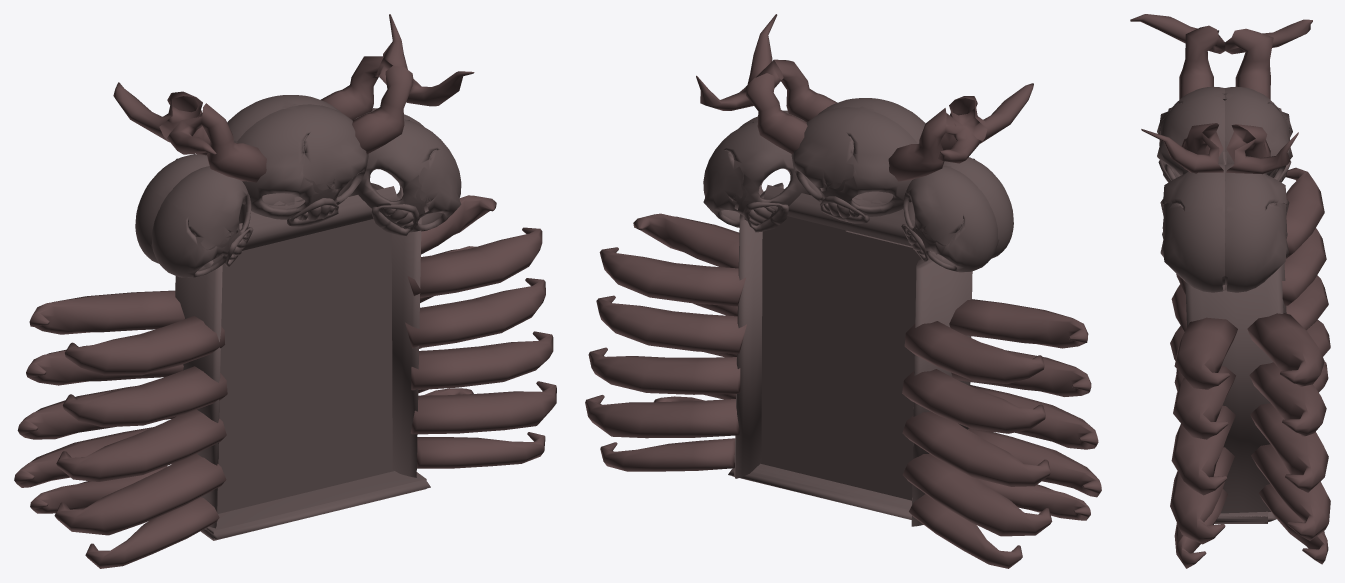
The model's file is BossDoor.fbx.
3 renders of one model, left to right at view 1: azimuth 30°, elevation 25°; view 2: azimuth 150°, elevation 25°; view 3: azimuth 270°, elevation 25°, orthographic. The views are drawn at different scales.
Visible parts, largest first — view 1: Cylinder.000, Sphere.001, Cylinder.001, Cube, Cube.002, Sphere.000, Cube.004; view 2: Cylinder.000, Cylinder.001, Sphere.000, Cube, Cube.002, Sphere.001, Cube.004; view 3: Cylinder.001, Sphere.001, Sphere.000, Cylinder.000, Cube.004.
Part boxes in pixels (box(x1,y1,x2,y2)): Cylinder.000: box(14, 260, 227, 568); Sphere.001: box(152, 66, 474, 277); Cylinder.001: box(371, 183, 556, 477); Cube: box(302, 219, 394, 493); Cube.002: box(217, 236, 302, 513); Sphere.000: box(113, 14, 423, 263); Cube.004: box(200, 471, 430, 540); Cylinder.000: box(902, 256, 1101, 568); Cylinder.001: box(585, 183, 783, 478); Sphere.000: box(696, 73, 997, 272); Cube: box(761, 216, 846, 484); Cube.002: box(845, 230, 937, 500); Sphere.001: box(739, 14, 1033, 258); Cube.004: box(728, 463, 911, 519); Cylinder.001: box(1170, 266, 1330, 568); Sphere.001: box(1130, 14, 1226, 292); Sphere.000: box(1222, 19, 1312, 292); Cylinder.000: box(1170, 167, 1330, 392); Cube.004: box(1214, 511, 1276, 523).
Size of the model in its own units: 1309 by 1073 by 482.
